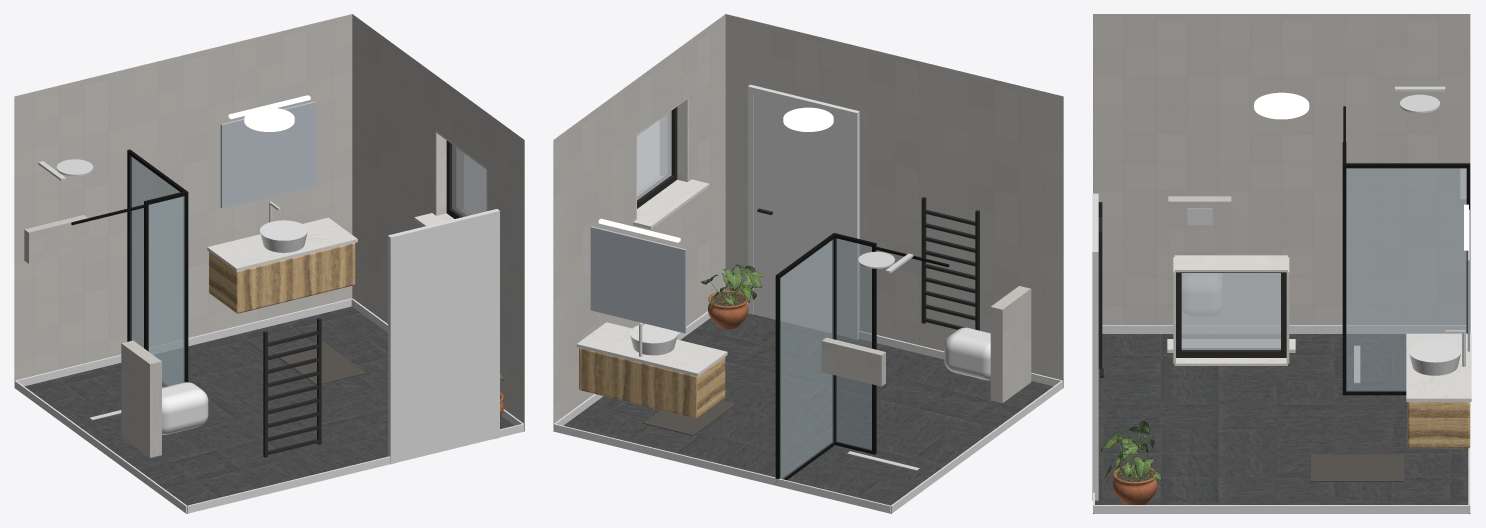
File: bath.glb
3 views of the same model, side by side, from view 1: azimuth 30°, elevation 25°; view 2: azimuth 150°, elevation 25°; view 3: azimuth 270°, elevation 25° (orthographic). The views are drawn at different scales.
Parts seen in each view (by area): view 1: bath_baked, Mesh_25, Mesh_44, Mesh_30, Mesh_18, Mesh_76; view 2: bath_baked, Mesh_25, Mesh_44, Mesh_30, Mesh_18, Mesh_76; view 3: bath_baked, Mesh_25, Mesh_18, Mesh_76.
Boxes of the visible parts, x1,y1,x2,y2 form: bath_baked: (14,14,524,513); Mesh_25: (130,156,183,385); Mesh_44: (220,101,316,208); Mesh_30: (148,196,184,387); Mesh_18: (452,144,486,216); Mesh_76: (244,107,294,131); bath_baked: (553,14,1063,513); Mesh_25: (780,239,833,478); Mesh_44: (590,226,686,333); Mesh_30: (836,238,871,450); Mesh_18: (637,111,671,200); Mesh_76: (783,107,833,131); bath_baked: (1092,14,1471,513); Mesh_25: (1346,168,1466,391); Mesh_18: (1181,273,1280,349); Mesh_76: (1254,92,1309,119).
Bounding box in the file's own units: 3.7 × 2.8 × 3.02.
Materials: 14 (14 with a texture image).
